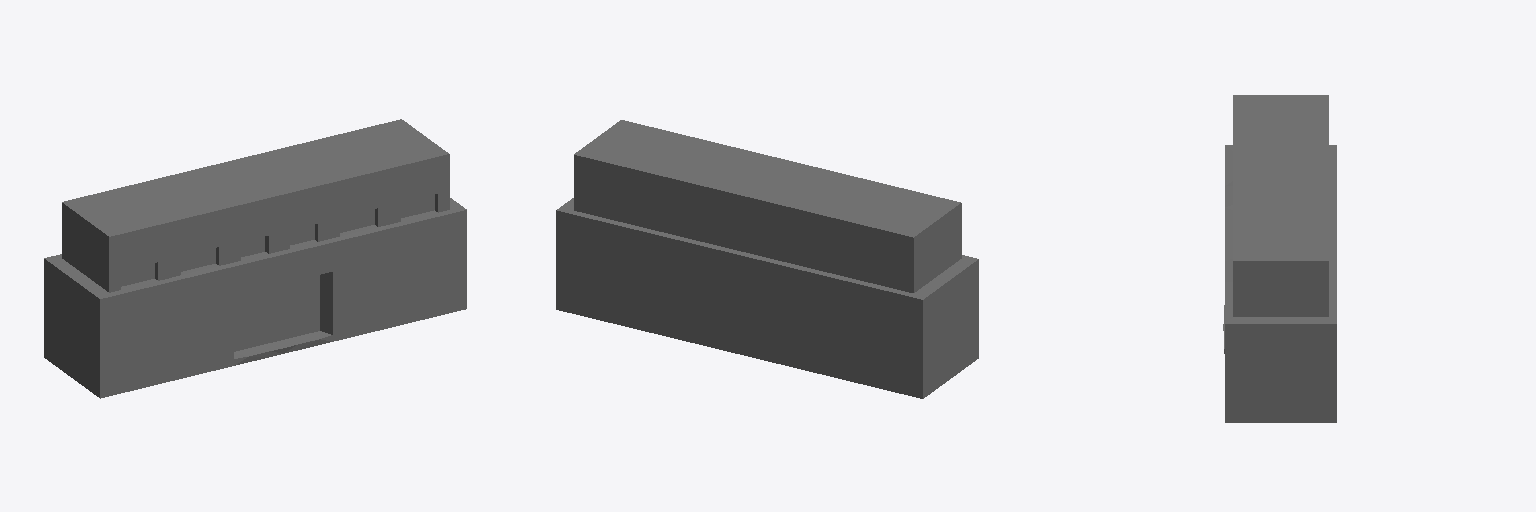
File: store.obj
3 views of the same model, side by side, from view 1: azimuth 30°, elevation 25°; view 2: azimuth 150°, elevation 25°; view 3: azimuth 270°, elevation 25° (orthographic).
Visible parts, largest first — view 1: store; view 2: store; view 3: store.
Boxes of the visible parts, <box> form: store: <box>44,119,466,398</box>; store: <box>556,120,978,398</box>; store: <box>1223,95,1336,422</box>.
Size of the model in its own units: 20.39 by 8.25 by 5.47.